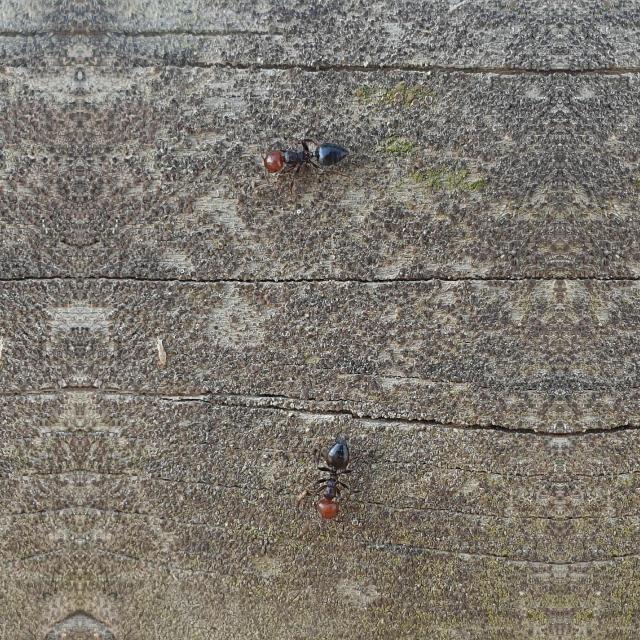Crematogaster: (308, 426, 354, 522), (257, 134, 347, 174)
